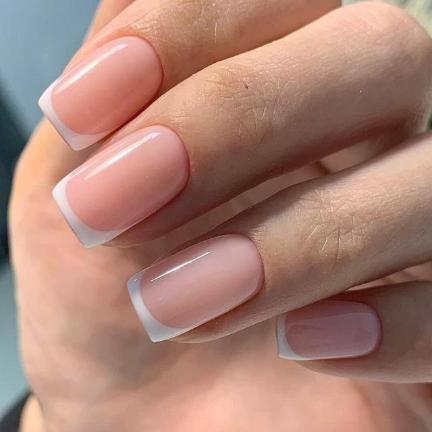Nail: (51, 124, 189, 250), (125, 233, 265, 343), (37, 35, 163, 151), (277, 300, 382, 360)
